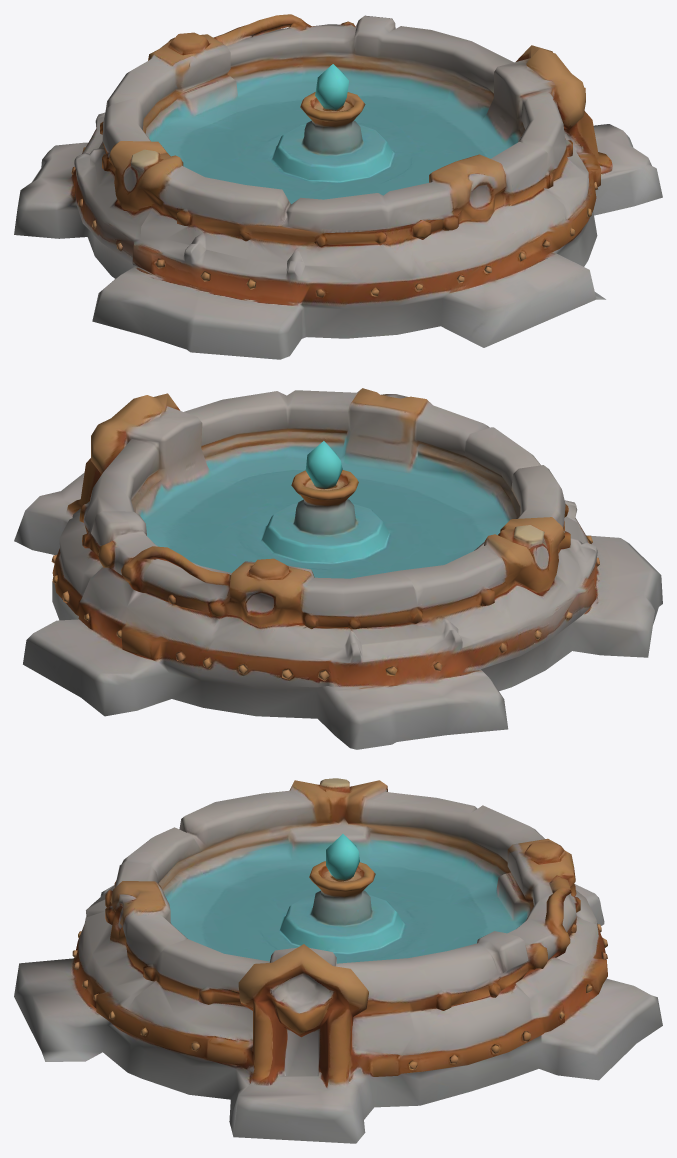
File: fountain.glb
The picture shows the model from 3 angles, top to bottom: view 1: azimuth 30°, elevation 25°; view 2: azimuth 150°, elevation 25°; view 3: azimuth 270°, elevation 25°; orthographic projection. The views are drawn at different scales.
Parts seen in each view (by area): view 1: tripo_node_85278cc5-09bb-49ef-8aa2-b526427d4693; view 2: tripo_node_85278cc5-09bb-49ef-8aa2-b526427d4693; view 3: tripo_node_85278cc5-09bb-49ef-8aa2-b526427d4693.
Part boxes in pixels (bbox=[...]): tripo_node_85278cc5-09bb-49ef-8aa2-b526427d4693: bbox=[14, 14, 662, 359]; tripo_node_85278cc5-09bb-49ef-8aa2-b526427d4693: bbox=[14, 388, 662, 749]; tripo_node_85278cc5-09bb-49ef-8aa2-b526427d4693: bbox=[14, 778, 662, 1143].
Bounding box in the file's own units: 0.998 × 0.2793 × 0.9707.
1 material, 1 textured.
